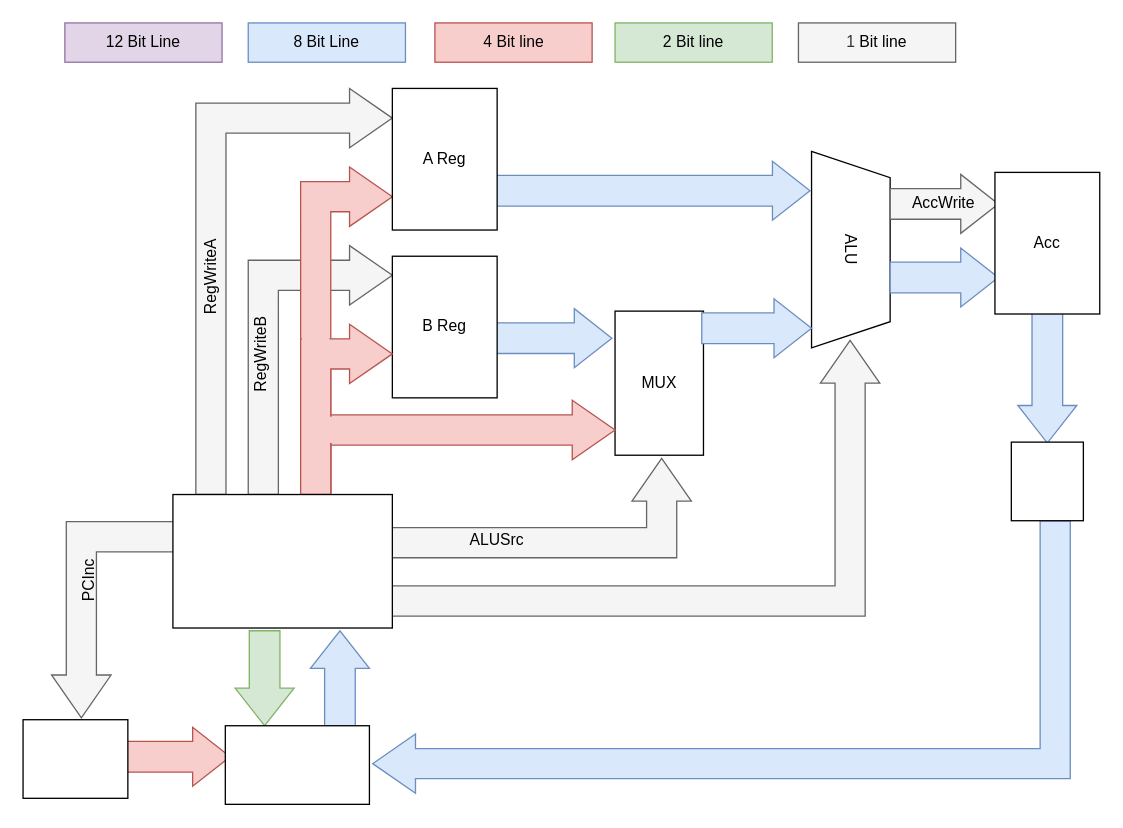
This 1123x828 diagram has some shape labels left out. The shapes that lost their labels are listed below. From the top down, each one's centre as x and y in pixels, then its label:
At (x=315, y=337): "Immediate".
At (x=632, y=477): "ALUOp".
At (x=1046, y=481): "Output Reg".
At (x=282, y=560): "Control Sequencer".
At (x=75, y=758): "PC".
At (x=296, y=764): "I/O".
